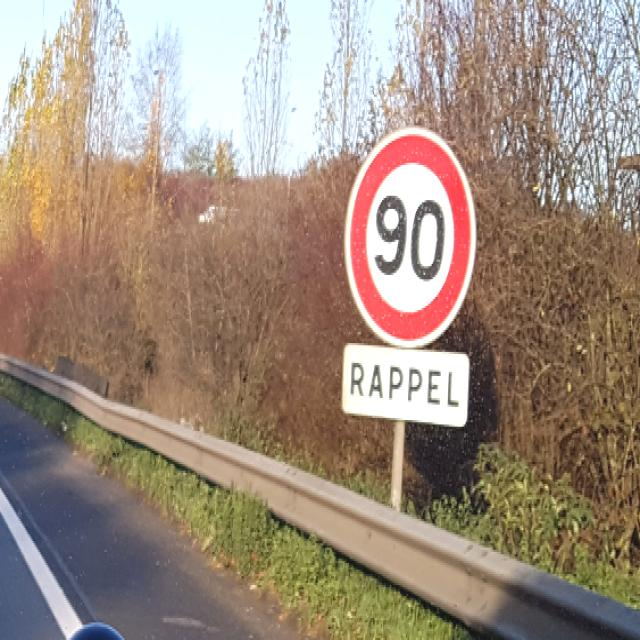speed_90: (344, 125, 478, 349)
